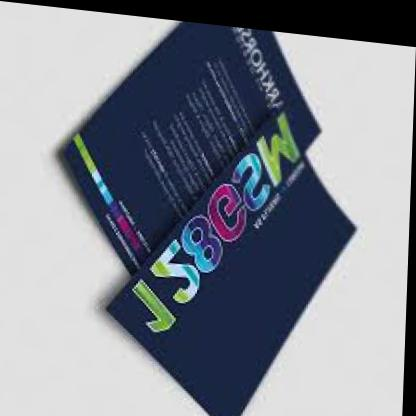Paper: (5, 2, 406, 416)
